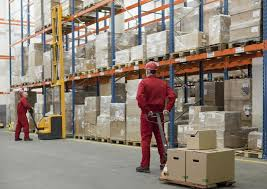Pallet Jack: (144, 110, 236, 189), (26, 3, 65, 141)
